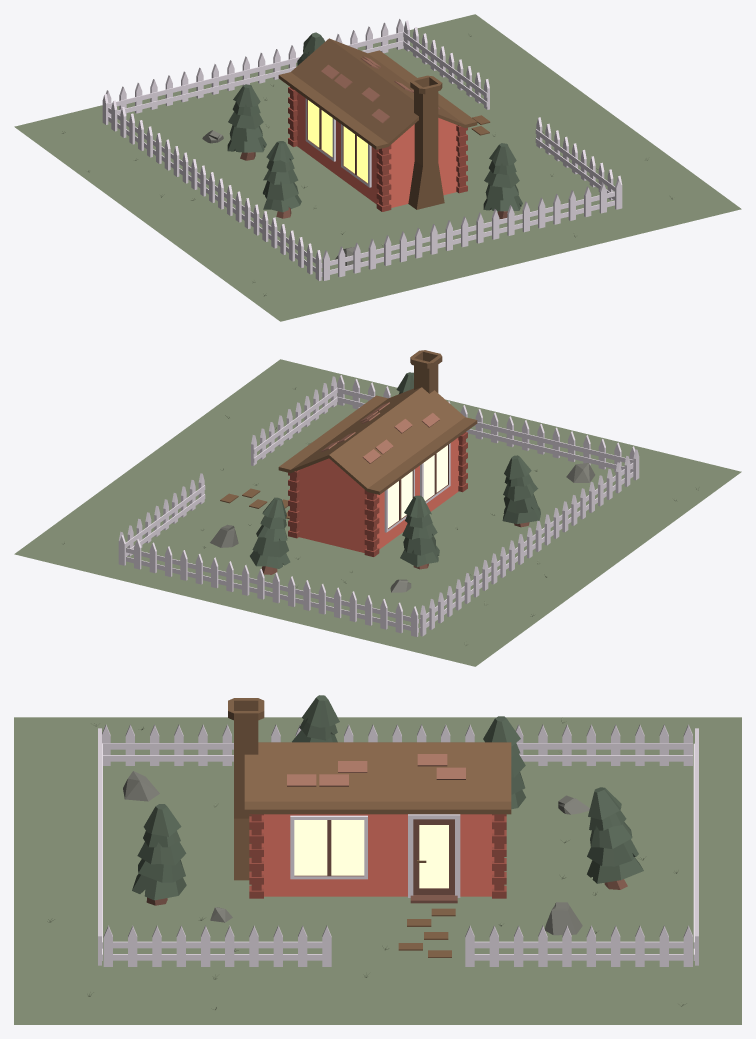
File: house1.glb
The picture shows the model from 3 angles, top to bottom: view 1: azimuth 30°, elevation 25°; view 2: azimuth 150°, elevation 25°; view 3: azimuth 270°, elevation 25°; orthographic projection. The views are drawn at different scales.
Visible parts, largest first — view 1: Plane, houseframe, fence.002, fence.003, fence.004, chimney, fence.001, spruce3, spruce4, spruce2, fence.009, frame1 (+3 smaller); view 2: Plane, houseframe, fence.004, fence.003, fence.002, fence.009, spruce, spruce4, spruce3, fence.001, frame2, window (+2 smaller); view 3: Plane, houseframe, fence.003, fence.009, fence.001, window, door, spruce, spruce2, chimney, spruce3, spruce4 (+6 smaller).
Part boxes in pixels (x1,y1,x2,y2): Plane: (14, 14, 741, 321); houseframe: (278, 38, 477, 207); fence.002: (322, 179, 622, 280); fence.003: (102, 94, 322, 280); fence.004: (106, 19, 403, 117); chimney: (408, 75, 444, 209); fence.001: (403, 20, 489, 109); spruce3: (263, 141, 301, 218); spruce4: (227, 84, 266, 160); spruce2: (483, 143, 522, 218); fence.009: (535, 117, 622, 200); frame1: (376, 125, 467, 211); Plane: (14, 359, 741, 666); houseframe: (278, 387, 477, 552); fence.004: (118, 535, 418, 636); fence.003: (419, 449, 639, 636); fence.002: (337, 375, 634, 473); fence.009: (251, 376, 337, 465); spruce: (250, 497, 290, 574); spruce4: (400, 495, 439, 569); spruce3: (502, 455, 540, 527); fence.001: (118, 473, 205, 556); frame2: (288, 470, 379, 556); window: (420, 443, 450, 503); Plane: (14, 717, 741, 1024); houseframe: (244, 742, 511, 896); fence.003: (102, 724, 692, 765); fence.009: (103, 925, 331, 966); fence.001: (465, 925, 692, 966); window: (290, 815, 367, 879); door: (408, 814, 460, 903); spruce: (587, 787, 643, 889); spruce2: (132, 804, 186, 905); chimney: (228, 698, 264, 880); spruce3: (292, 695, 339, 742); spruce4: (483, 716, 525, 809).
Size of the model in its own units: 60 by 17.45 by 60.
